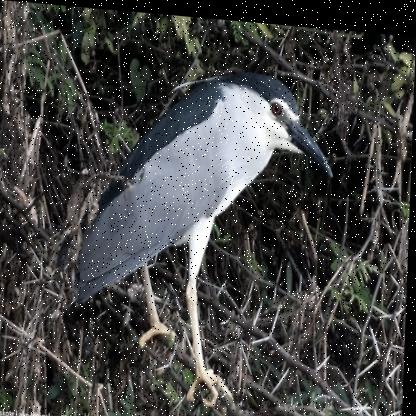Burung: (64, 55, 340, 399)
